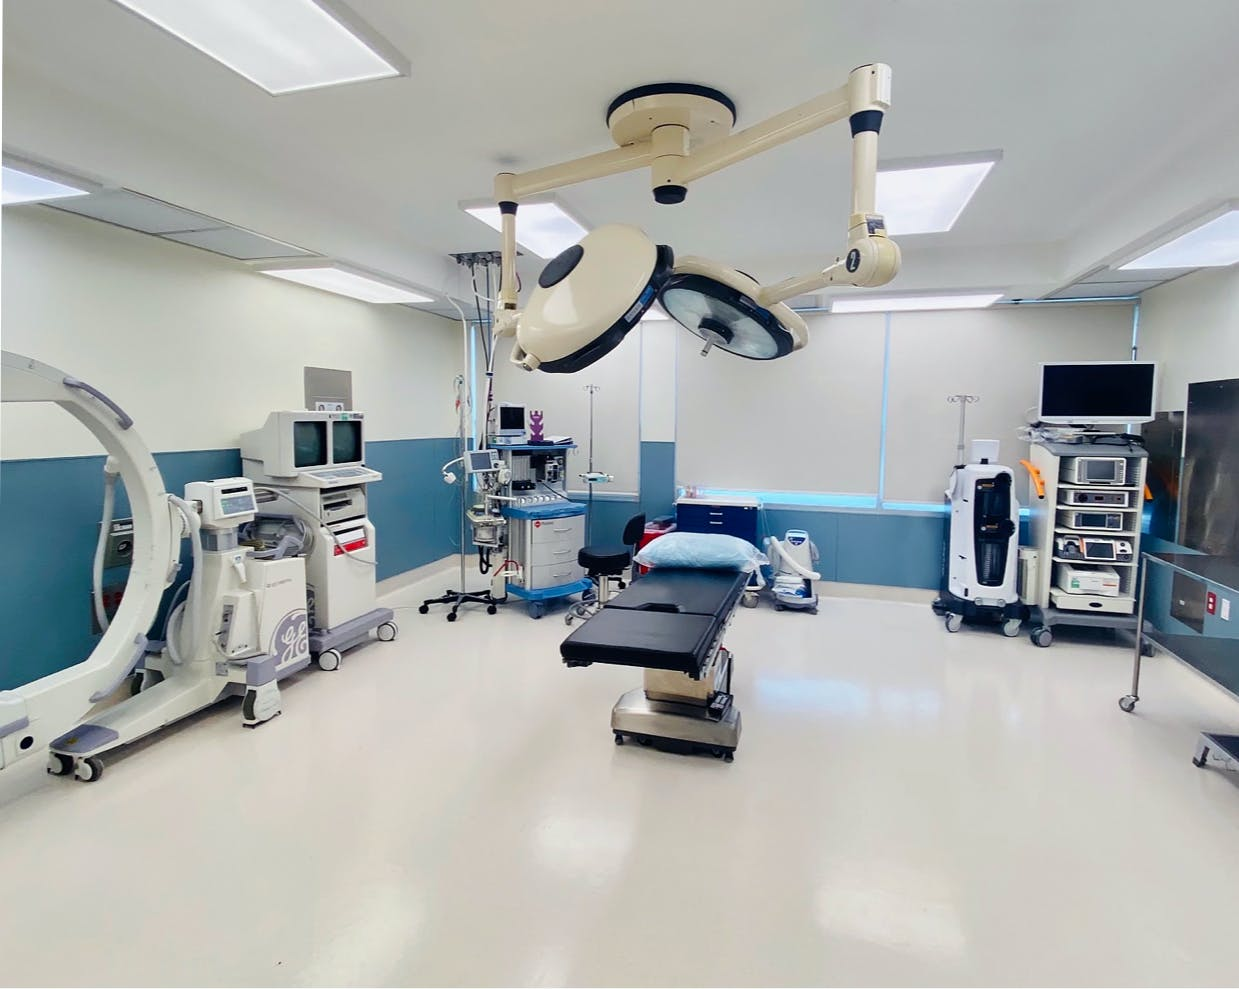bedside_monitor: (1040, 363, 1159, 422), (293, 418, 328, 467), (334, 420, 362, 463), (498, 406, 527, 435), (471, 456, 493, 471)
chair: (564, 512, 646, 626)
handle: (553, 573, 573, 580), (552, 548, 572, 555), (554, 527, 574, 534)
iv_pole: (946, 390, 981, 464), (583, 382, 600, 504)
medical_drawer: (514, 503, 595, 600)
operating_bed: (559, 499, 770, 763)
surgical_light: (508, 227, 672, 374), (665, 255, 810, 363)
utility_cart: (1119, 551, 1239, 786)
